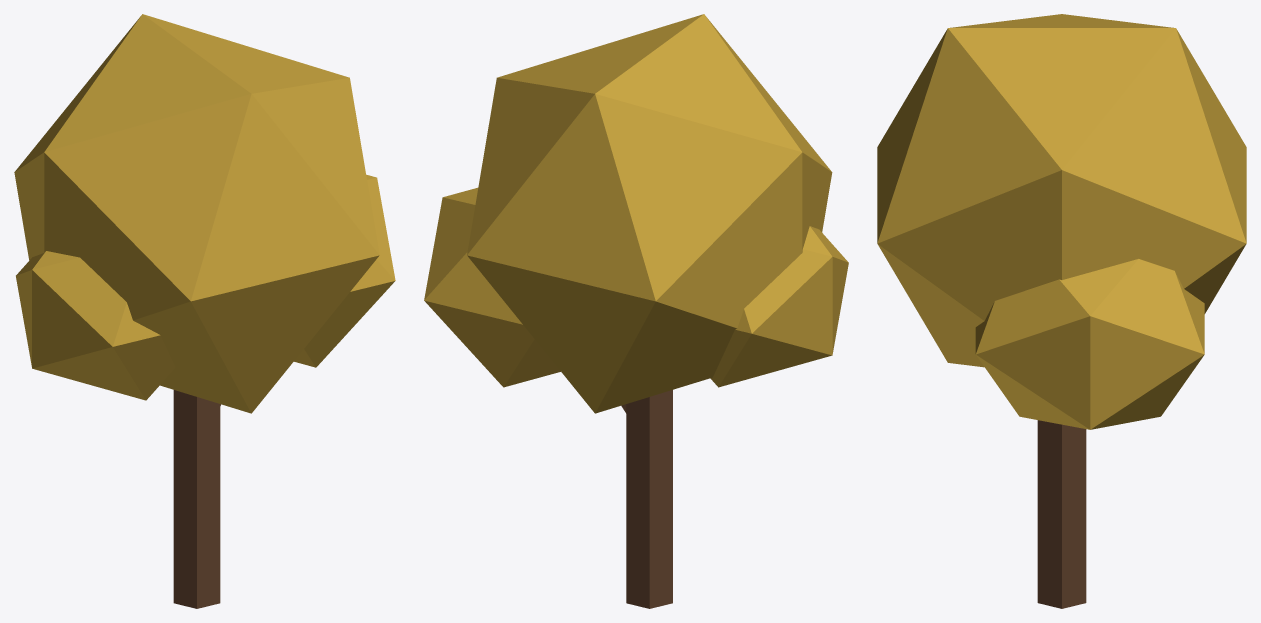
Rendered from Agac_yuvarlak_2_Hafif.fbx.
3 views of the same model, side by side, from view 1: azimuth 30°, elevation 25°; view 2: azimuth 150°, elevation 25°; view 3: azimuth 270°, elevation 25° (orthographic). The views are drawn at different scales.
Parts seen in each view (by area): view 1: Agac_yuvarlak_2_Hafif; view 2: Agac_yuvarlak_2_Hafif; view 3: Agac_yuvarlak_2_Hafif.
Part boxes in pixels (x1,y1,x2,y2): Agac_yuvarlak_2_Hafif: (14,14,395,608); Agac_yuvarlak_2_Hafif: (424,14,848,608); Agac_yuvarlak_2_Hafif: (877,14,1246,608).
Bounding box in the file's own units: 2.36 × 3.33 × 1.96.
